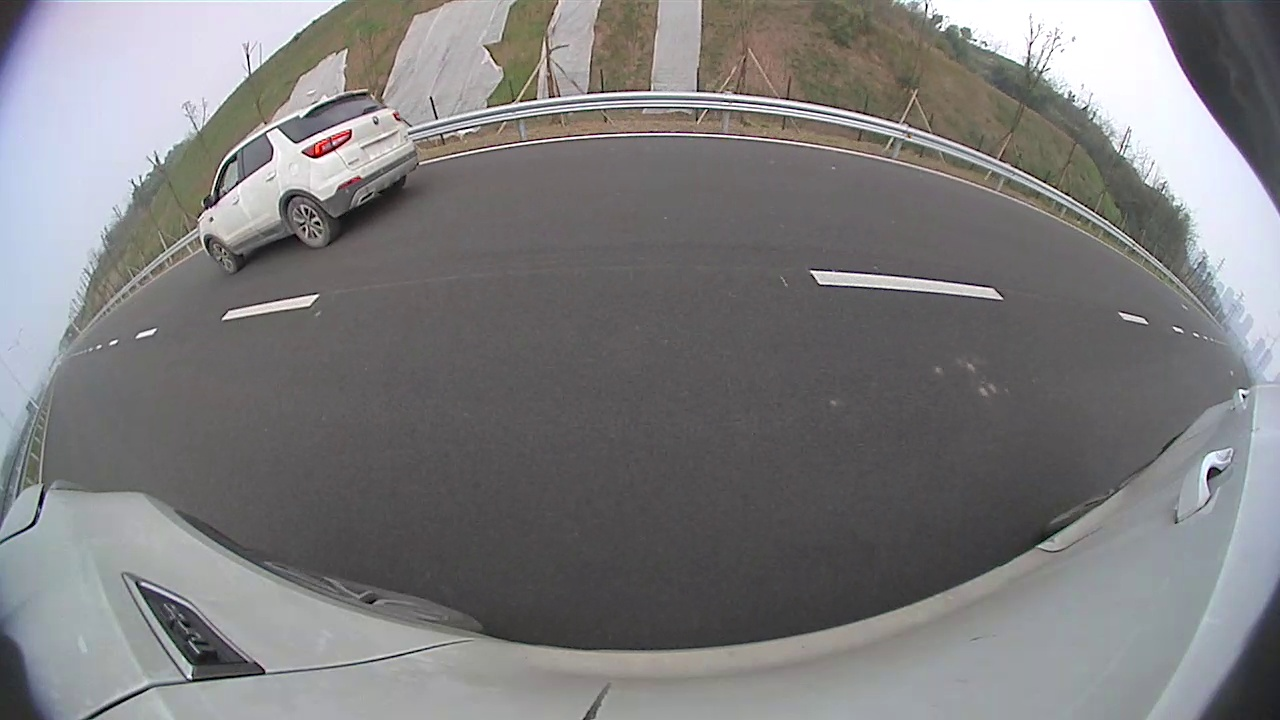car: (754, 135, 928, 234)
front: (753, 175, 775, 207)
rear: (814, 185, 843, 225)
